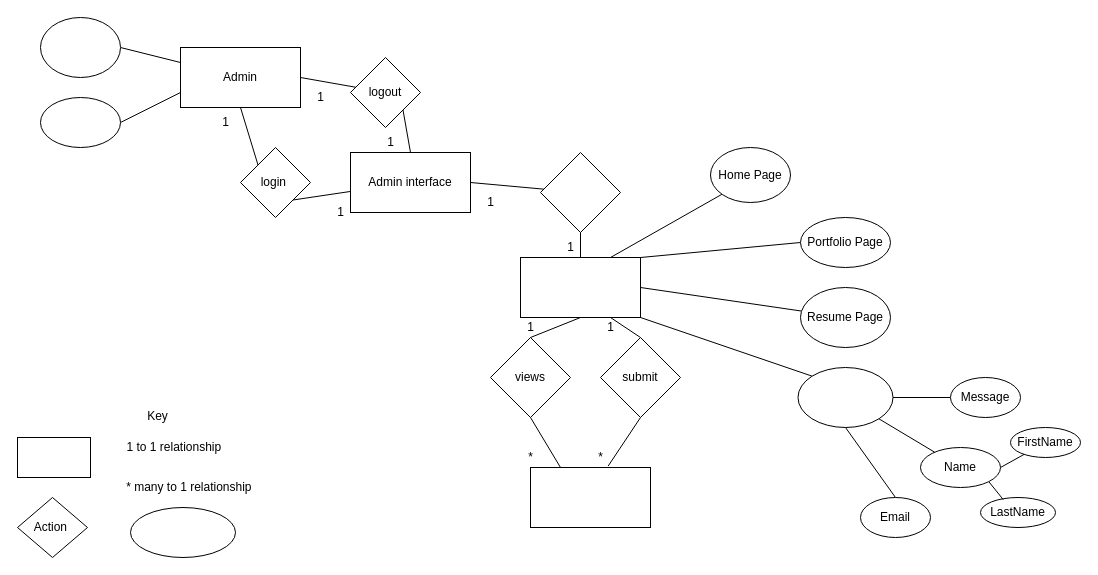
Image size: 1098x575. Some labels were removed from this diagram. The centre of each missing label's shape, as x and y in pixels:
"Attribute" belongs at [183,532].
"Contact Form" belongs at [845,397].
"edits" belongs at [580,192].
"Entity" belongs at [53,457].
"Online Personal Portfolio" belongs at [580,287].
"Password" belongs at [80,47].
"User" belongs at [590,497].
"UserName" belongs at [80,122].
